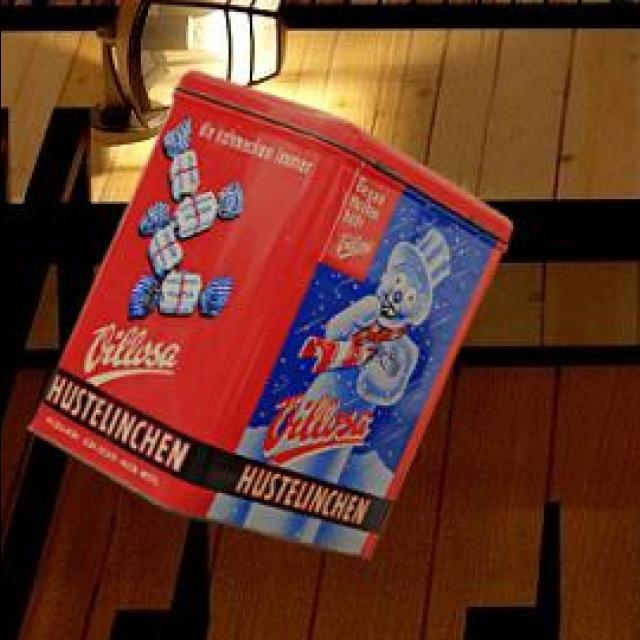logam: (23, 75, 508, 563)
